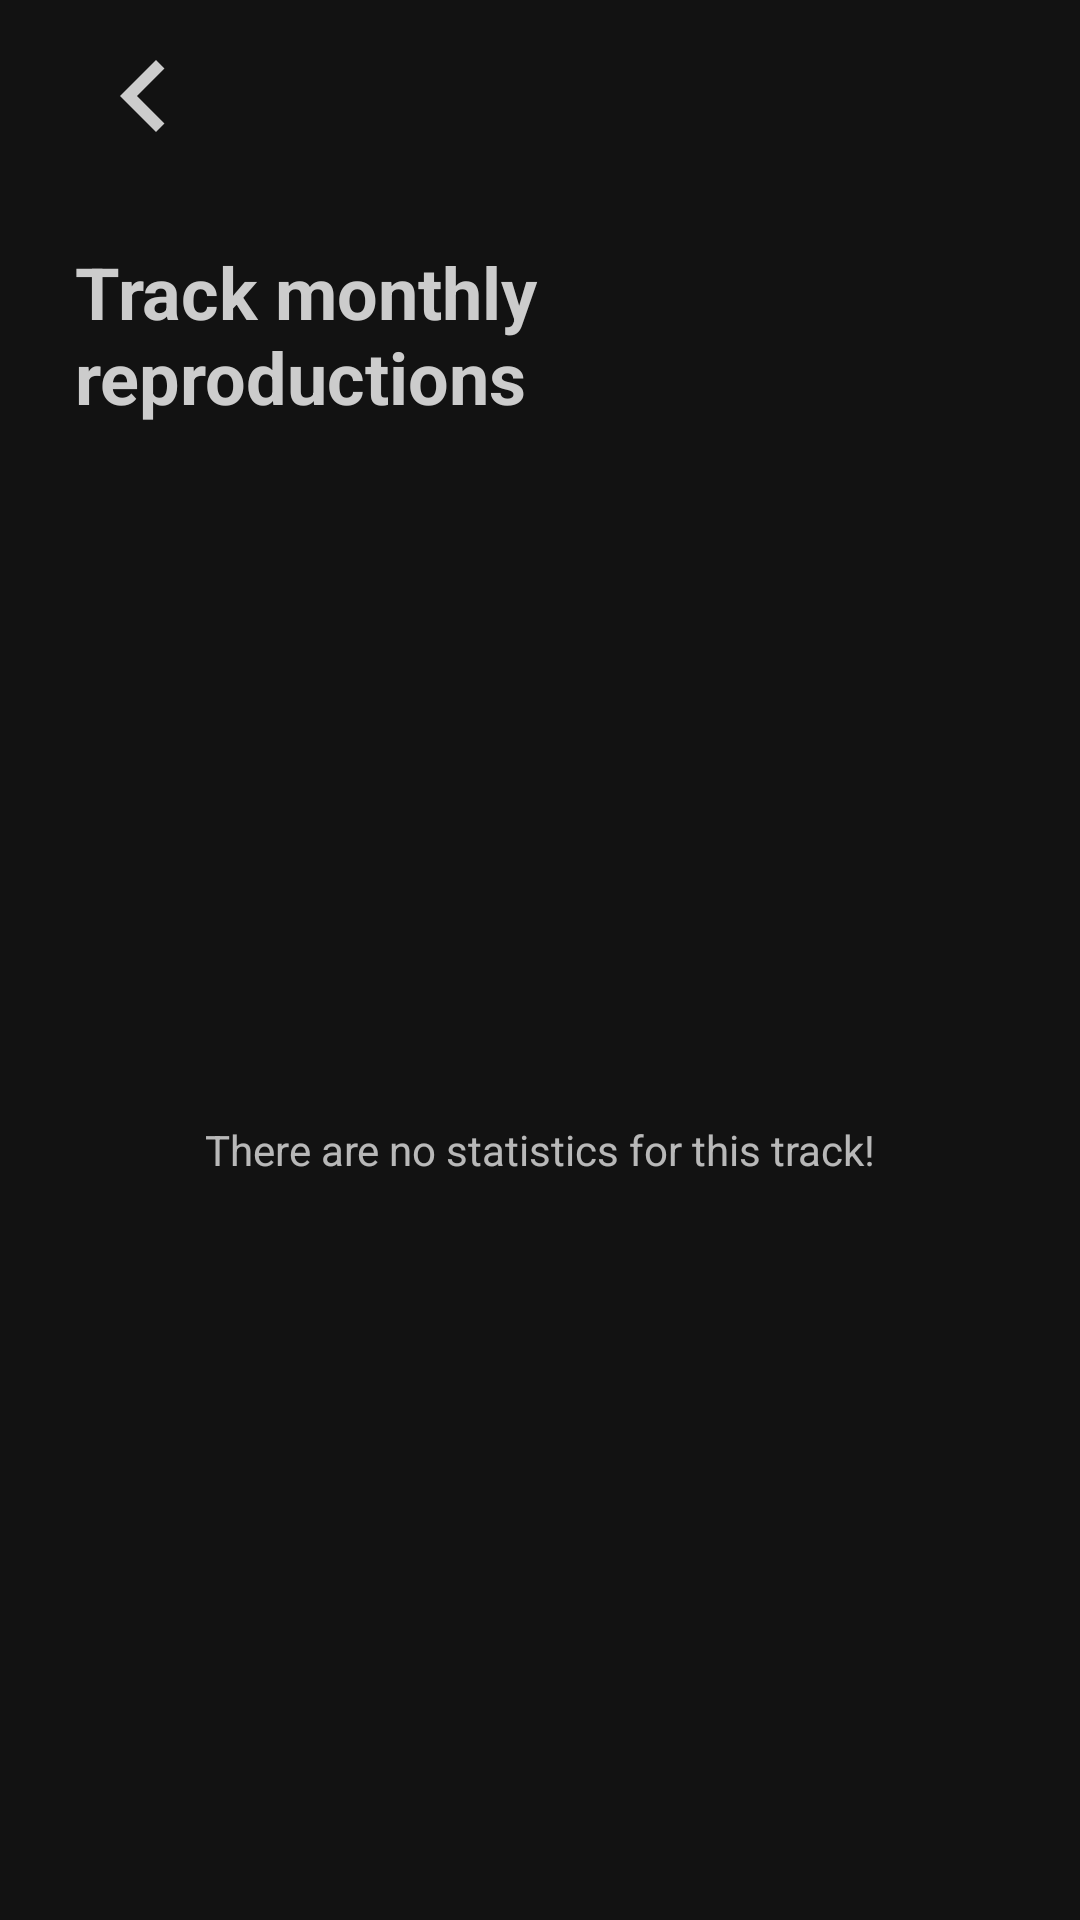

Named icons in this screenshot (1080px×1920px) and their centers, point (x, y):
back arrow: point (142, 96)
